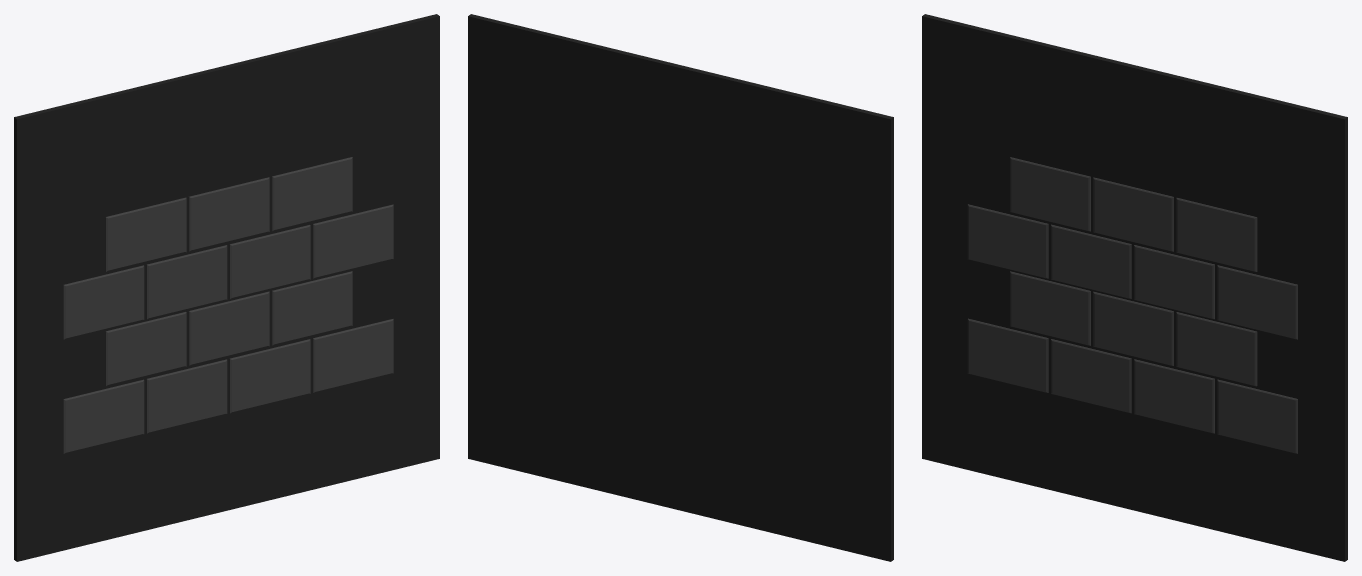
File: Wall_4.fbx
3 renders of one model, left to right at view 1: azimuth 30°, elevation 25°; view 2: azimuth 150°, elevation 25°; view 3: azimuth 330°, elevation 25°, orthographic.
Parts seen in each view (by area): view 1: Plane.003; view 2: Plane.003; view 3: Plane.003.
Boxes of the visible parts, bbox=[...] form: Plane.003: bbox=[14, 14, 439, 561]; Plane.003: bbox=[468, 14, 893, 561]; Plane.003: bbox=[922, 14, 1347, 561].
Size of the model in its own units: 400 by 400 by 6.41.
1 material, 1 textured.
